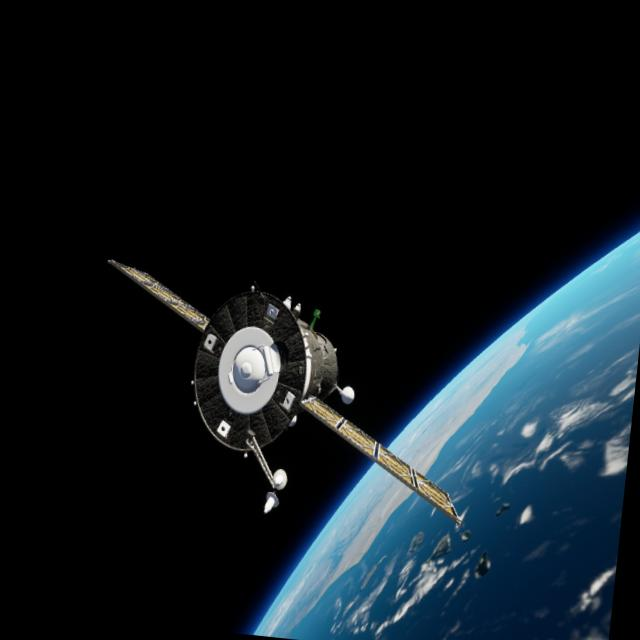Satellites revolving around earth: (79, 254, 489, 539)
